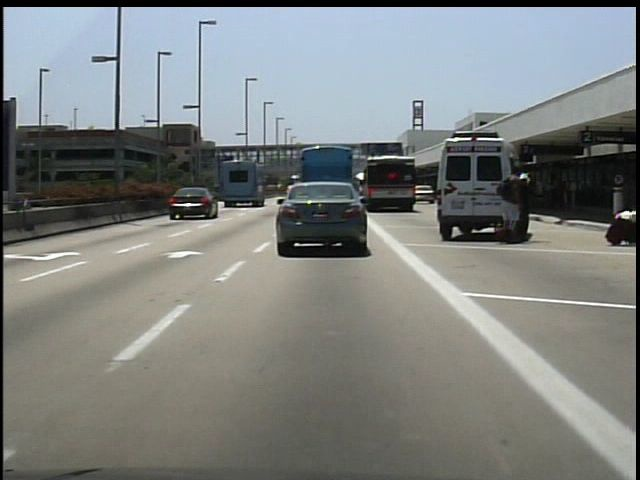person: (496, 163, 529, 242), (520, 172, 538, 243)
